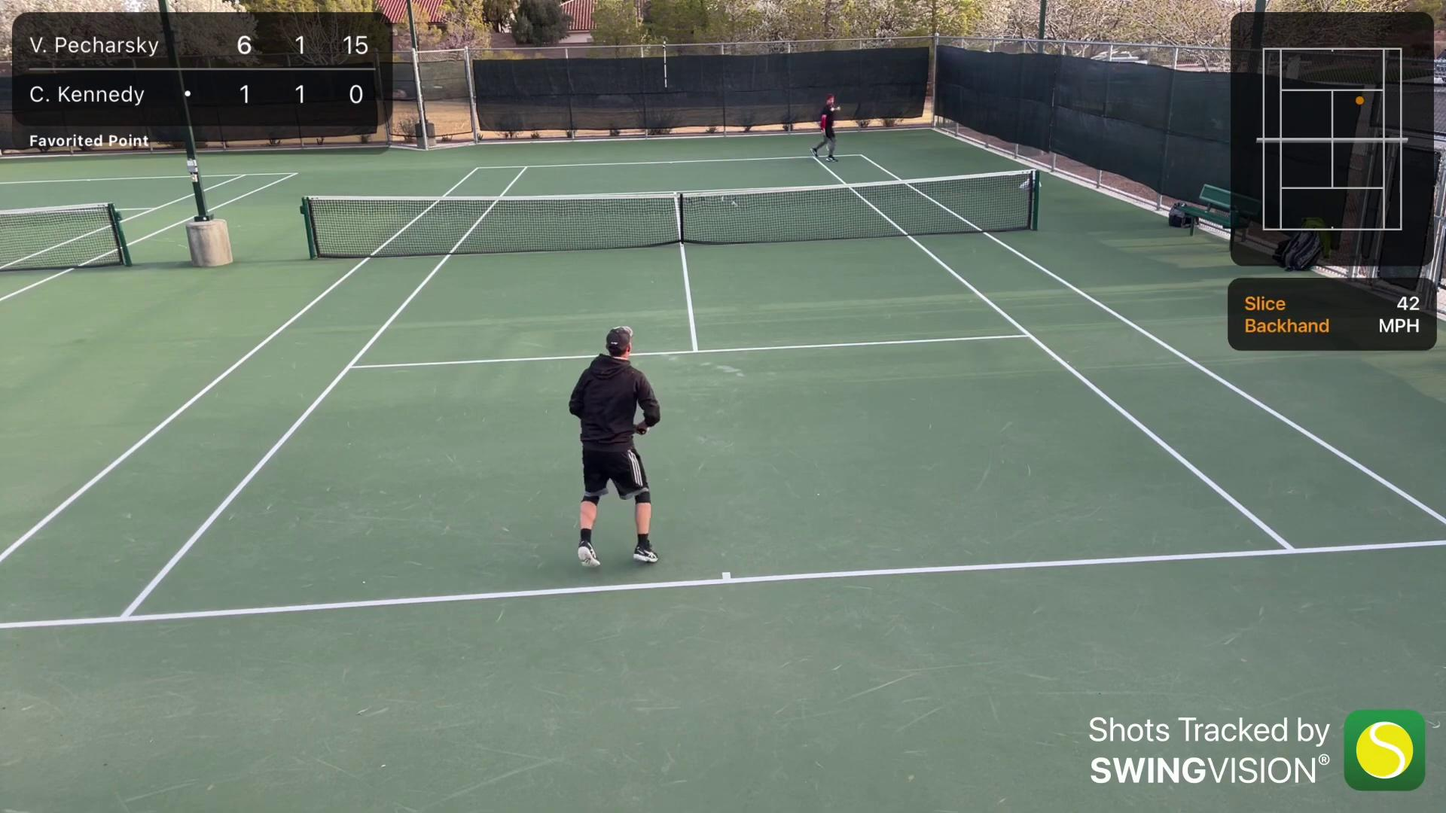ball: (830, 106, 835, 111)
